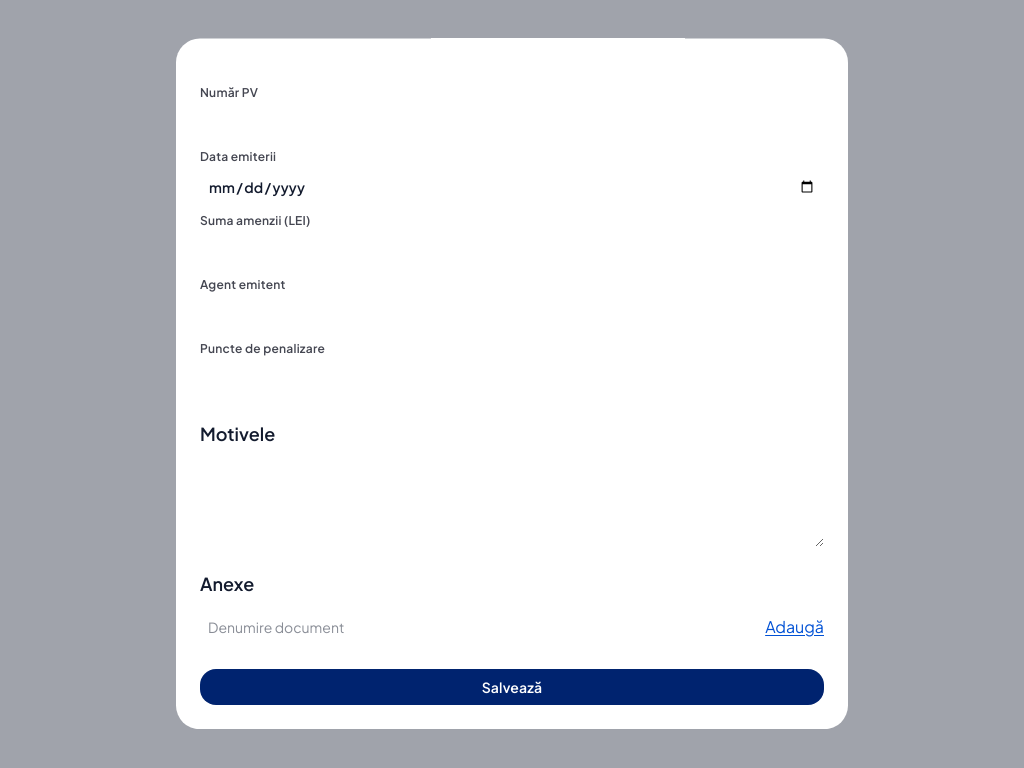
Test: EditCaseForm › adds and removes an annex
The image size is (1024, 768).
(page scrolled)
Type "Copie carte de identitate" into the field with placeholder "Denumire document" at (479, 627), box [200,609,757,645]
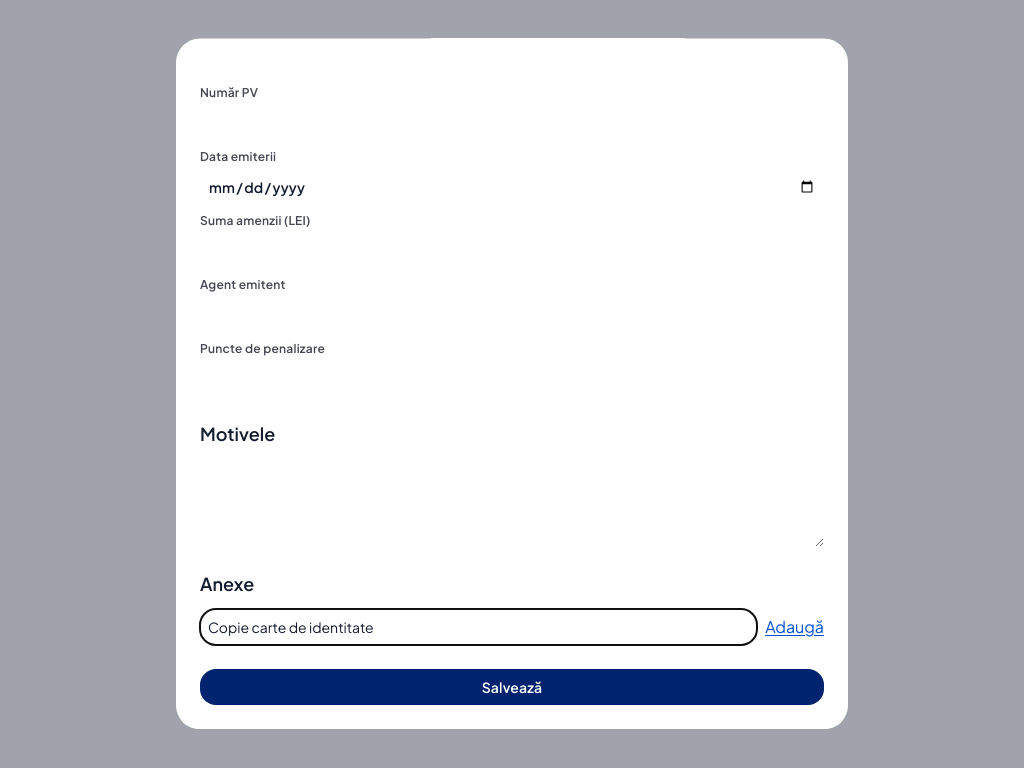
Click the button "Adaugă" at (795, 627), box [765,609,824,645]
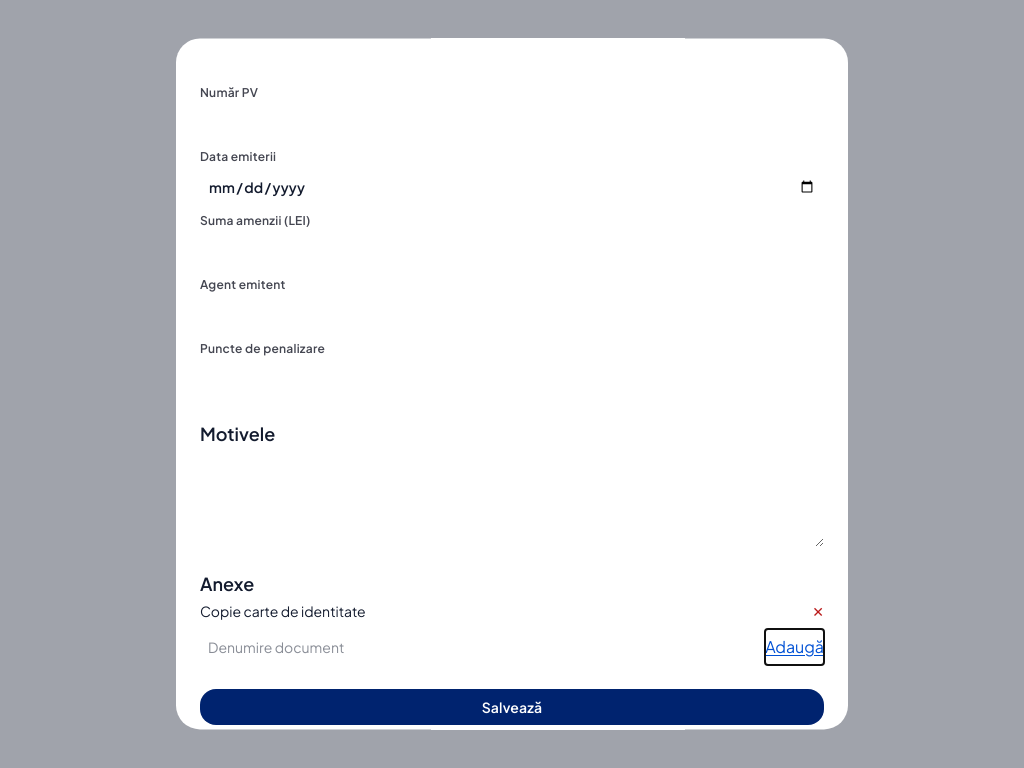
Expected: the text "Copie carte de identitate" is shown, [200,601,366,621]
Click the button named "Șterge Copie carte de identitate" at (818, 611), box [812,601,824,621]
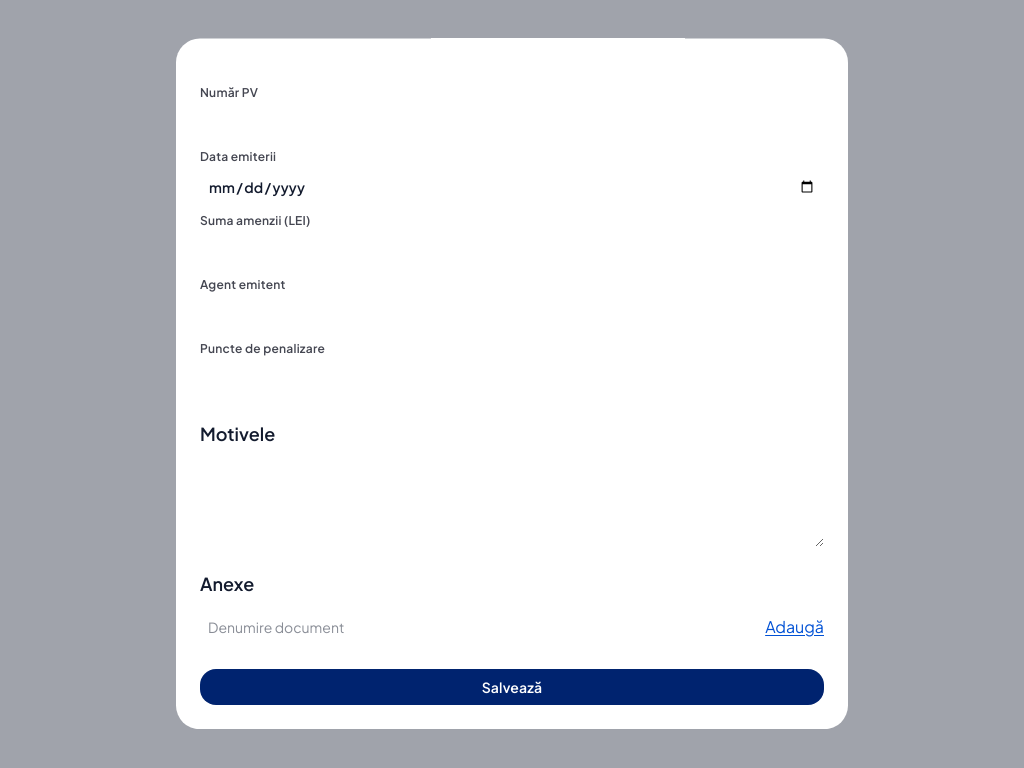
Expected: the text "Copie carte de identitate" is gone
